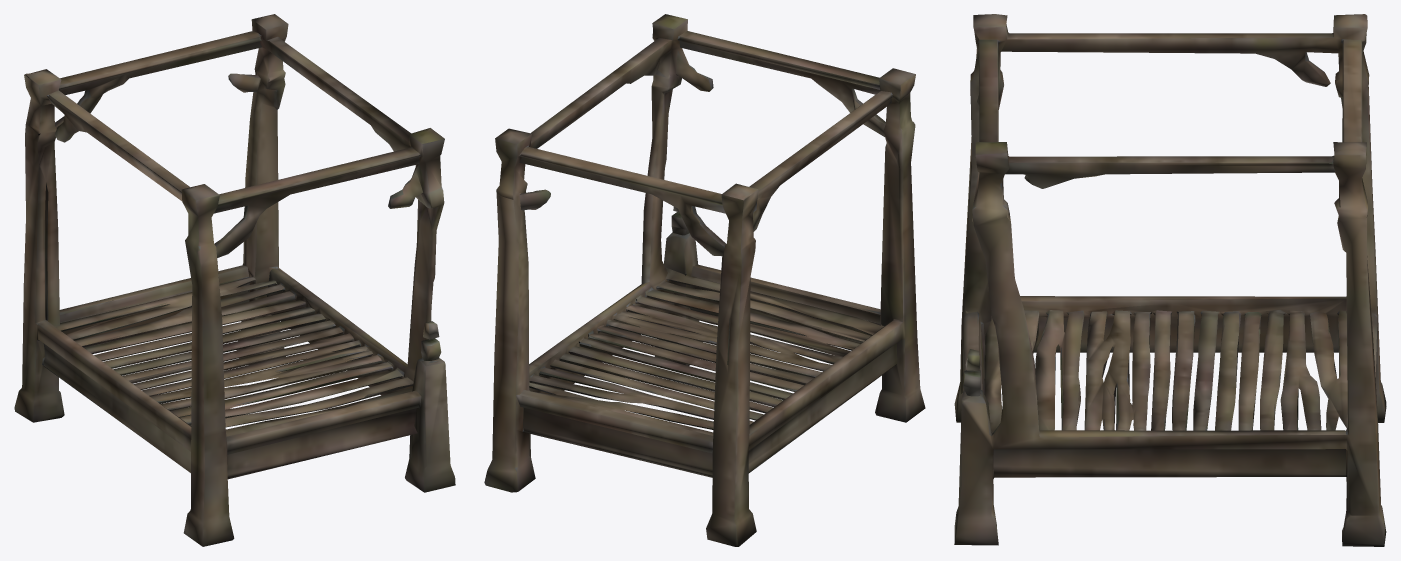
The model's file is weathered-wood-four-poster-bed-v002.glb.
The picture shows the model from 3 angles, left to right: view 1: azimuth 30°, elevation 25°; view 2: azimuth 150°, elevation 25°; view 3: azimuth 270°, elevation 25°; orthographic projection. The views are drawn at different scales.
Visible parts, largest first — view 1: weathered-wood-four-poster-bed; view 2: weathered-wood-four-poster-bed; view 3: weathered-wood-four-poster-bed.
Boxes of the visible parts, x1,y1,x2,y2 form: weathered-wood-four-poster-bed: (14,14,455,546); weathered-wood-four-poster-bed: (484,14,925,546); weathered-wood-four-poster-bed: (954,14,1386,546).
Size of the model in its own units: 1.83 by 2.39 by 2.35.
Materials: 1 (1 with a texture image).
